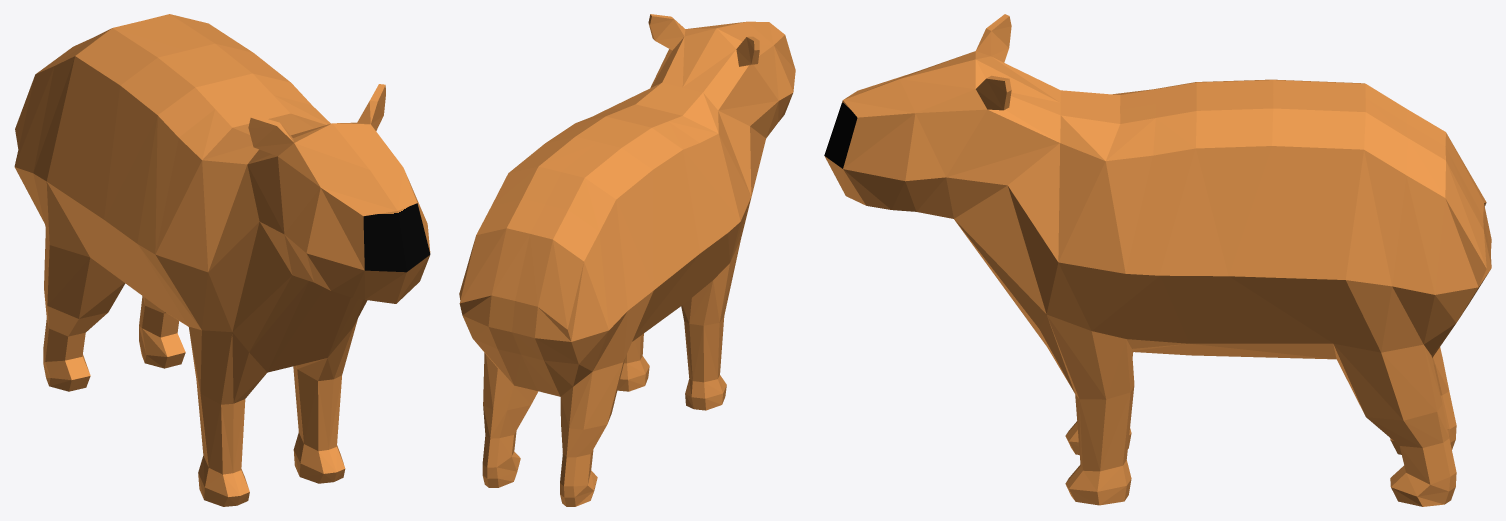
The model's file is Capybara.gltf.
3 views of the same model, side by side, from view 1: azimuth 30°, elevation 25°; view 2: azimuth 150°, elevation 25°; view 3: azimuth 270°, elevation 25° (orthographic). The views are drawn at different scales.
Visible parts, largest first — view 1: bone; view 2: bone; view 3: bone.
Part boxes in pixels (box(x1,y1,x2,y2)): bone: box(14, 14, 430, 506); bone: box(459, 14, 795, 506); bone: box(824, 14, 1491, 506).
Bounding box in the file's own units: 0.2515 × 0.4834 × 0.6812.
Materials: 1 (1 with a texture image).
